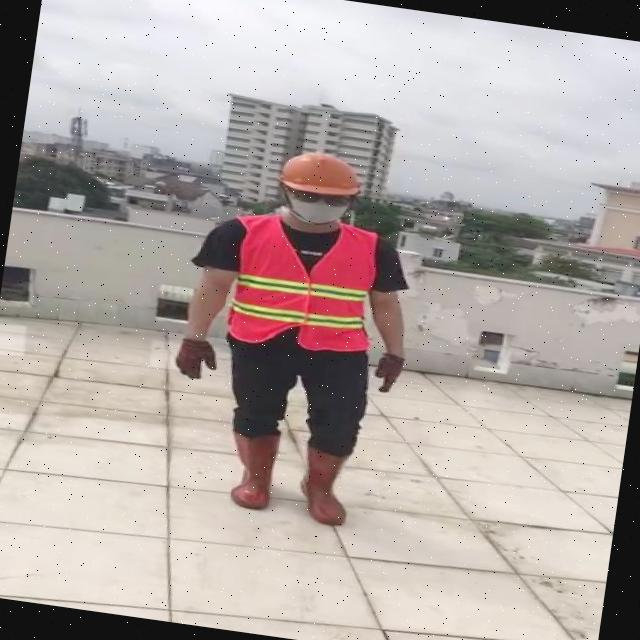boots: (295, 442, 359, 527), (222, 431, 286, 514)
